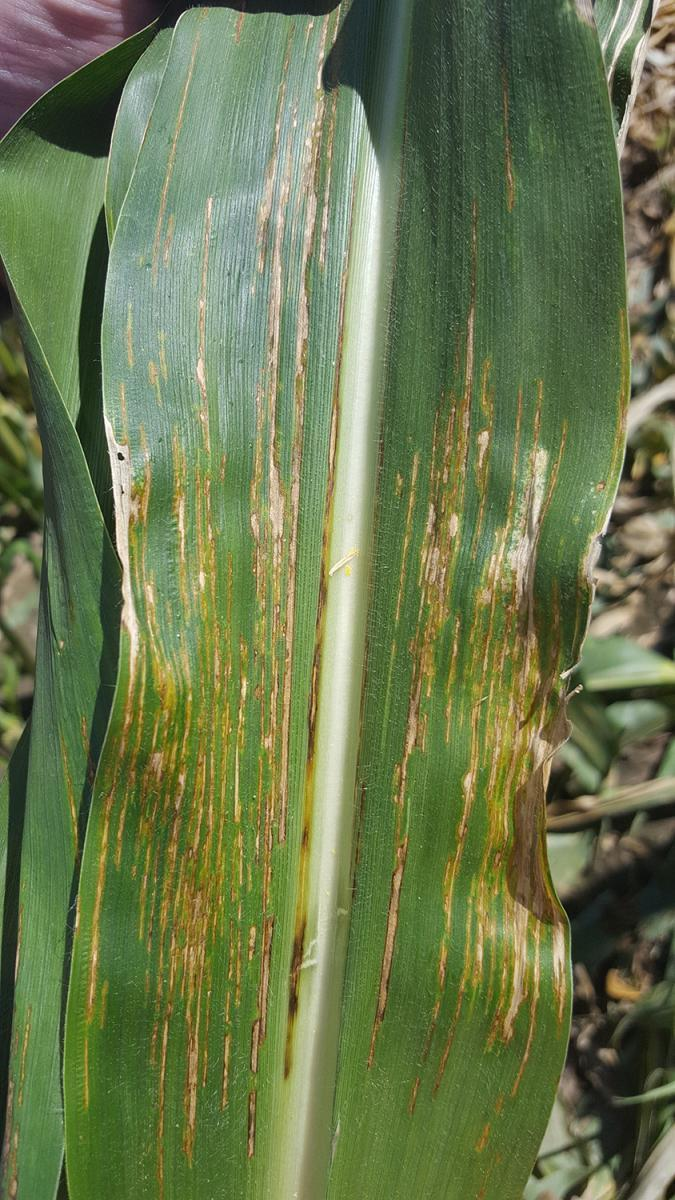Corn_Blight: (94, 24, 357, 1116), (395, 302, 610, 1074)
